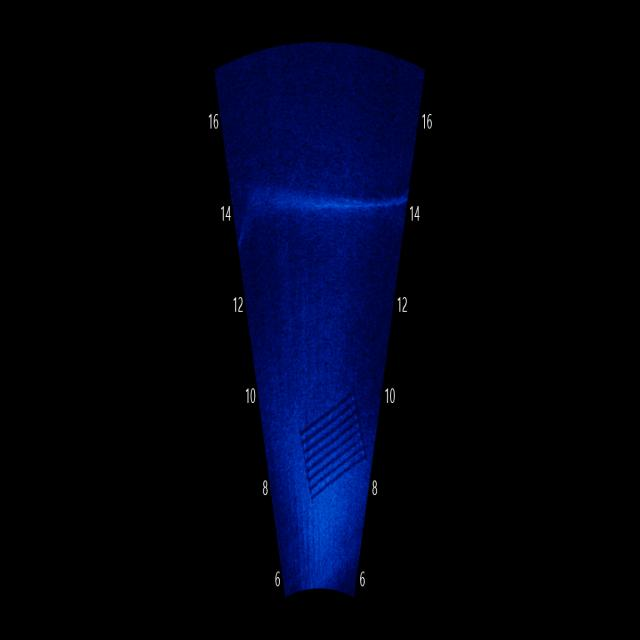square: (286, 381, 371, 516)
